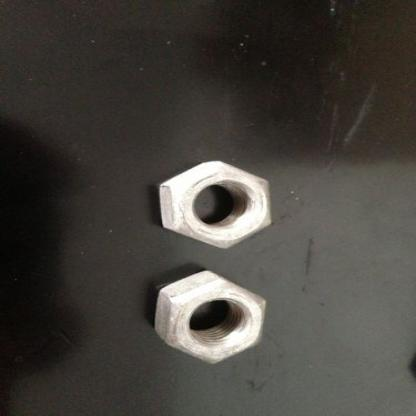FOD: (151, 268, 269, 366), (158, 158, 276, 252)
